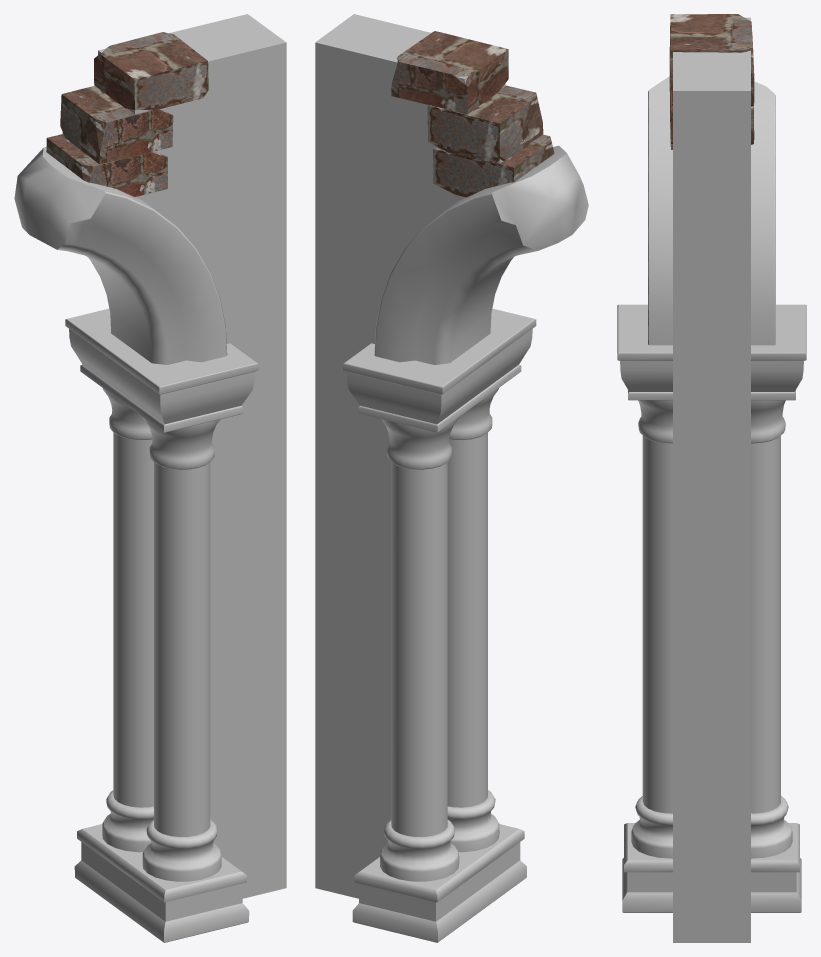
Rendered from SM_Archway_Tall_04_Ruined_02.fbx.
The picture shows the model from 3 angles, left to right: view 1: azimuth 30°, elevation 25°; view 2: azimuth 150°, elevation 25°; view 3: azimuth 270°, elevation 25°; orthographic projection.
Visible parts, largest first — view 1: SM_Archway_Tall_04_Ruined_02_LOD0; view 2: SM_Archway_Tall_04_Ruined_02_LOD0; view 3: SM_Archway_Tall_04_Ruined_02_LOD0.
Boxes of the visible parts, box(x1,y1,x2,y2) form: SM_Archway_Tall_04_Ruined_02_LOD0: box(14, 14, 286, 942); SM_Archway_Tall_04_Ruined_02_LOD0: box(315, 14, 588, 942); SM_Archway_Tall_04_Ruined_02_LOD0: box(617, 14, 806, 942).
Size of what is drawn, in the model's own units: 179 by 602 by 121.
